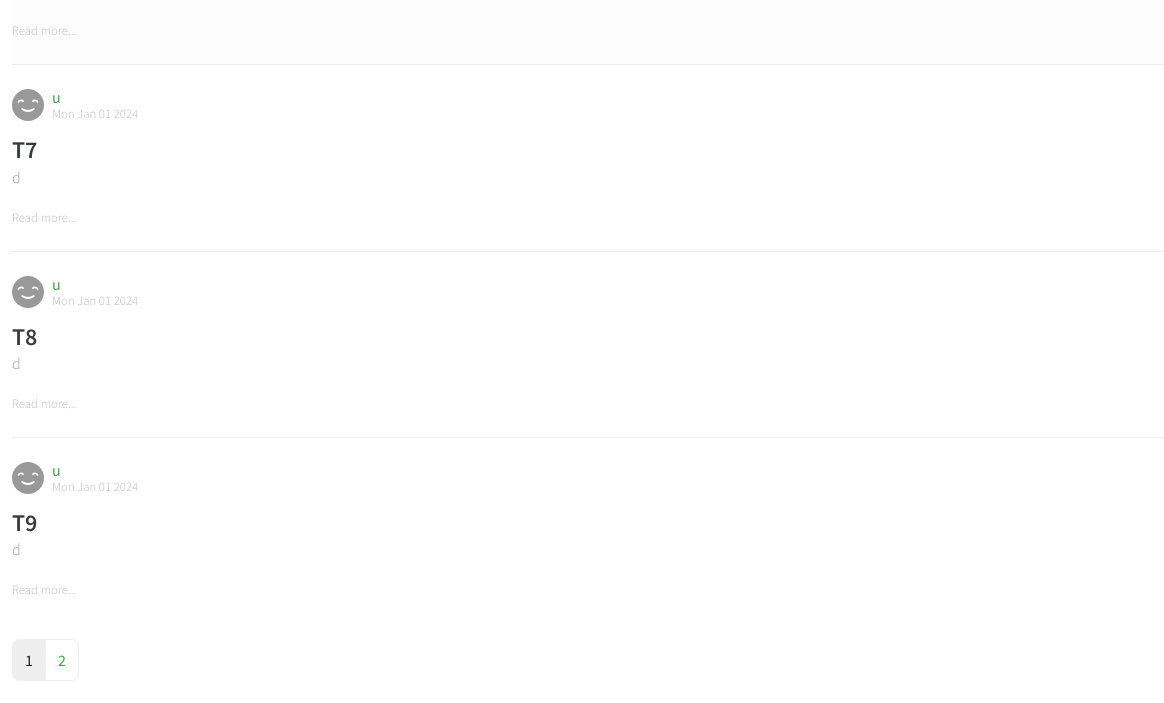
Test: ArticleList pagination › last page requests offset 10 and shows the remainder
This screenshot has width=1164, height=703.
(page scrolled)
Click the button "2": (62, 660) [45,639,79,681]
(page scrolled)
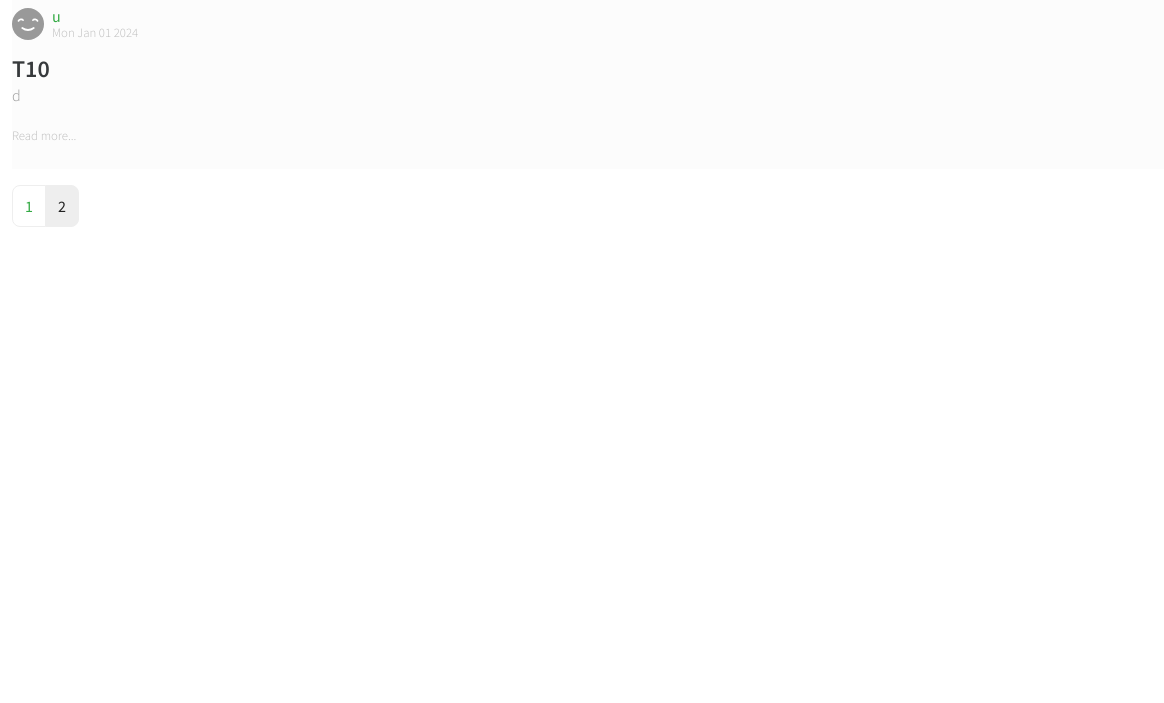
expect the heading "T10" is shown: met, box [12,53,50,84]
